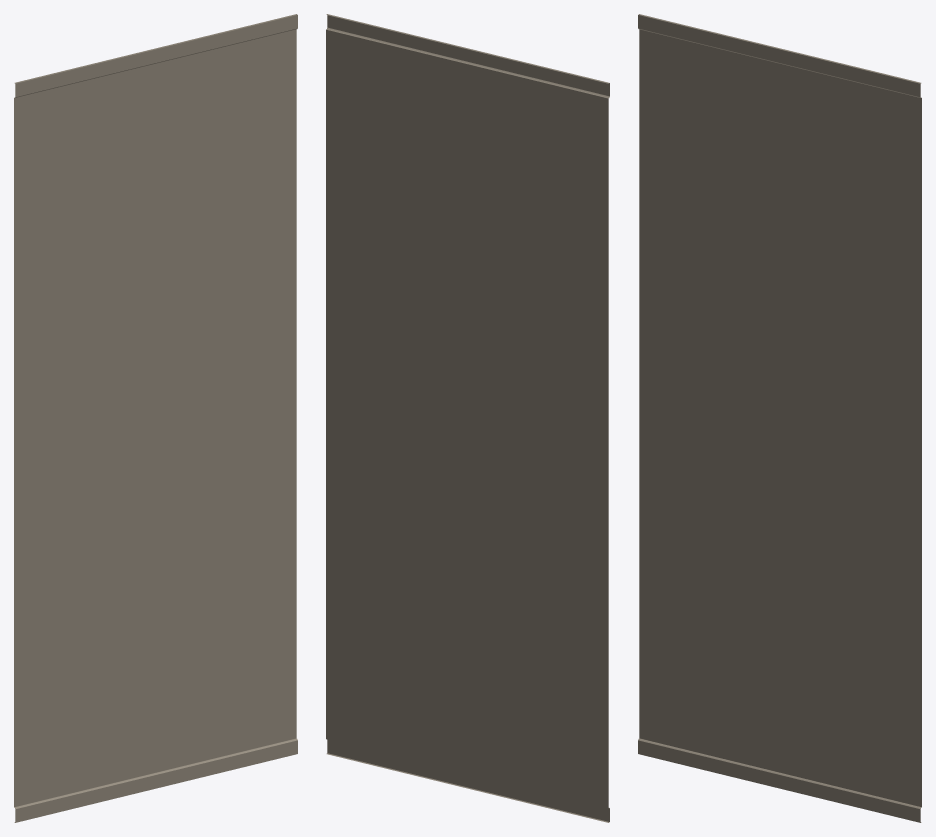
File: Wall_2x5_Plain.fbx
3 views of the same model, side by side, from view 1: azimuth 30°, elevation 25°; view 2: azimuth 150°, elevation 25°; view 3: azimuth 330°, elevation 25° (orthographic).
Visible parts, largest first — view 1: Wall_2x5_Plain; view 2: Wall_2x5_Plain; view 3: Wall_2x5_Plain.
Boxes of the visible parts, box(x1,y1,x2,y2) form: Wall_2x5_Plain: box(14, 14, 297, 822); Wall_2x5_Plain: box(326, 14, 609, 822); Wall_2x5_Plain: box(638, 14, 921, 822).
Size of the model in its own units: 2 by 5 by 0.015.
